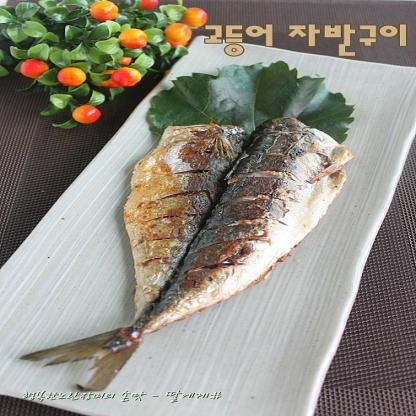Peixe: (0, 124, 364, 388)
